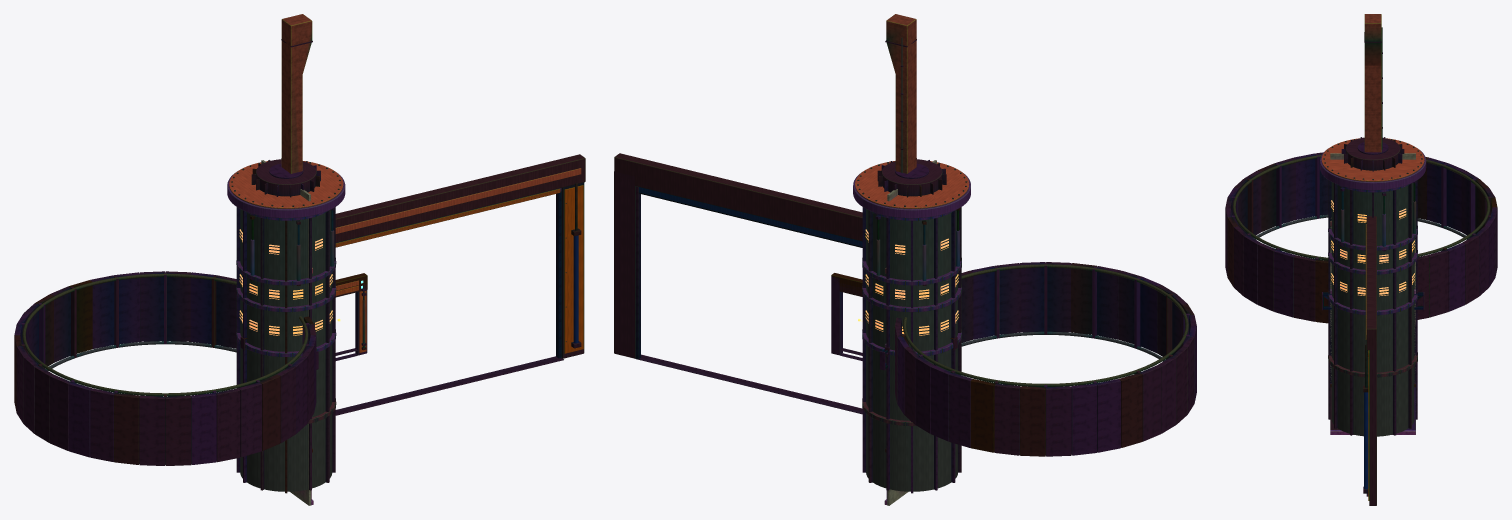
Rendered from kessler_kit.glb.
3 renders of one model, left to right at view 1: azimuth 30°, elevation 25°; view 2: azimuth 150°, elevation 25°; view 3: azimuth 270°, elevation 25°, orthographic. The views are drawn at different scales.
Visible parts, largest first — view 1: k_bore_liner, k_bore_column, k_door_big, k_rib, k_door_4x4; view 2: k_bore_liner, k_bore_column, k_door_big, k_rib, k_door_4x4; view 3: k_bore_column, k_bore_liner, k_door_big, k_rib, k_wallbay.
Part boxes in pixels (box(x1,y1,x2,y2)): k_bore_liner: box(14, 271, 316, 465); k_bore_column: box(227, 158, 345, 493); k_door_big: box(335, 154, 585, 415); k_rib: box(281, 14, 312, 173); k_door_4x4: box(335, 273, 367, 360); k_bore_liner: box(895, 262, 1196, 456); k_bore_column: box(853, 158, 970, 493); k_door_big: box(614, 153, 862, 414); k_rib: box(885, 14, 916, 173); k_door_4x4: box(831, 273, 862, 360); k_bore_column: box(1320, 137, 1426, 436); k_bore_liner: box(1225, 152, 1497, 323); k_door_big: box(1363, 216, 1376, 505); k_rib: box(1364, 14, 1382, 152); k_wallbay: box(1330, 153, 1415, 434).
Size of the model in its own units: 33.6 by 27 by 15.86.
17 materials, 8 textured.
